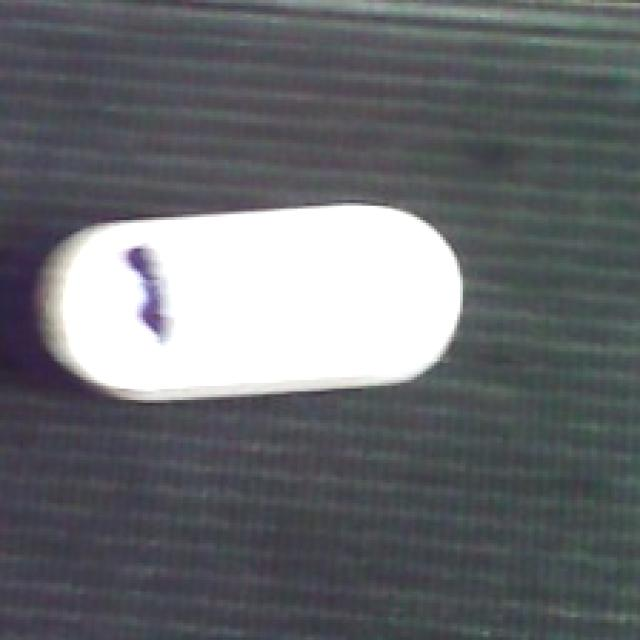defected: (23, 197, 468, 403)
